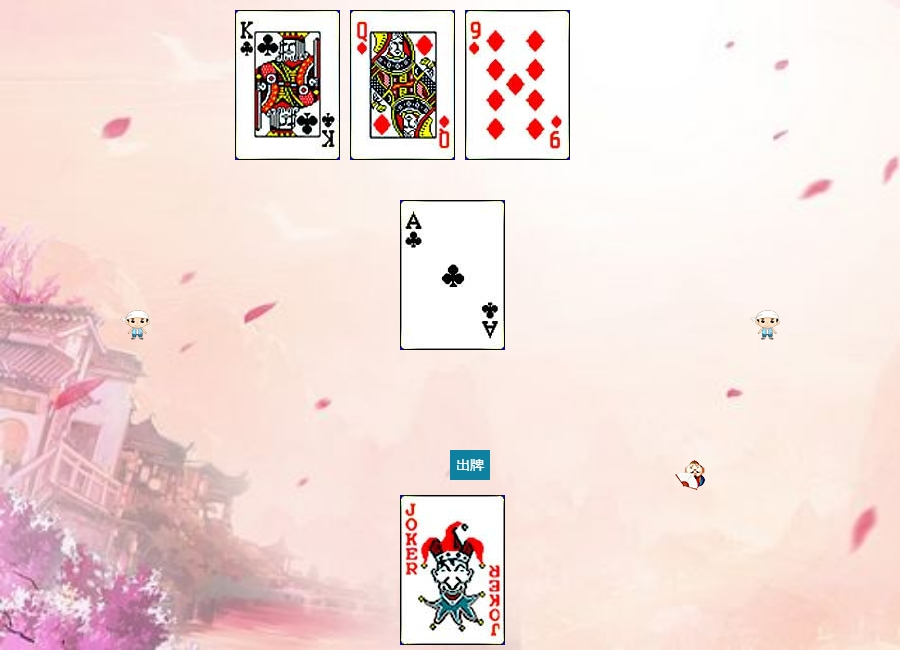12~1: (350, 10, 455, 160)
13~2: (235, 10, 340, 160)
14~2: (400, 200, 505, 350)
18~4: (400, 495, 505, 645)
9~1: (465, 10, 570, 160)
